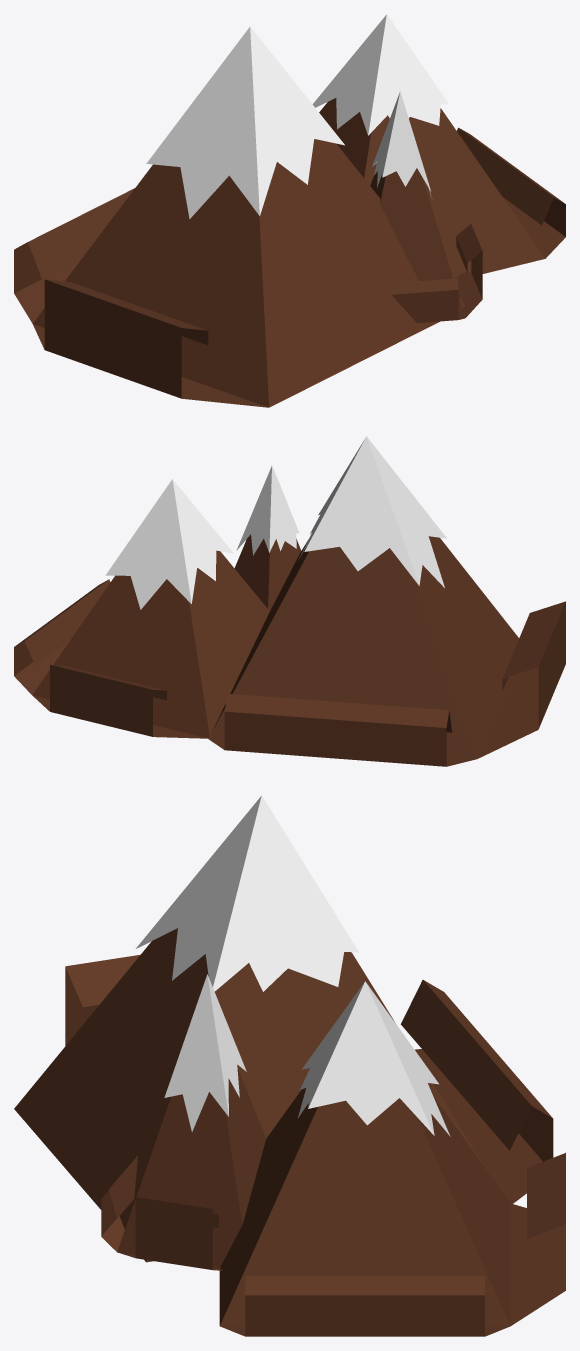
File: mountain.FBX
The picture shows the model from 3 angles, top to bottom: view 1: azimuth 30°, elevation 25°; view 2: azimuth 150°, elevation 25°; view 3: azimuth 270°, elevation 25°; orthographic projection. The views are drawn at different scales.
Parts seen in each view (by area): view 1: mountain (×3), mountain-snow (×3); view 2: mountain (×3), mountain-snow (×3); view 3: mountain (×3), mountain-snow (×3).
Part boxes in pixels (bbox=[...]): mountain (×3): bbox=[14, 98, 565, 407]; mountain-snow (×3): bbox=[146, 14, 448, 218]; mountain (×3): bbox=[14, 534, 565, 766]; mountain-snow (×3): bbox=[105, 436, 446, 609]; mountain (×3): bbox=[14, 928, 565, 1336]; mountain-snow (×3): bbox=[136, 795, 450, 1136].
Bounding box in the file's own units: 1171 × 636 × 878.
